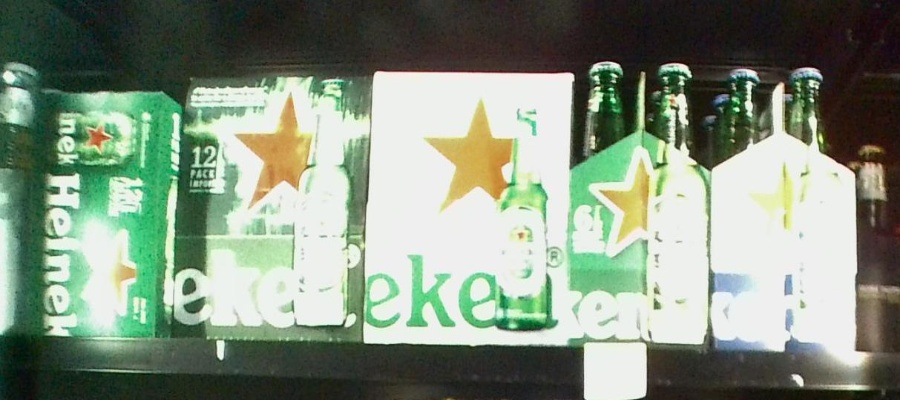bottle: (369, 70, 571, 344), (181, 73, 366, 342), (712, 60, 858, 347), (576, 60, 709, 350), (31, 90, 177, 340)
